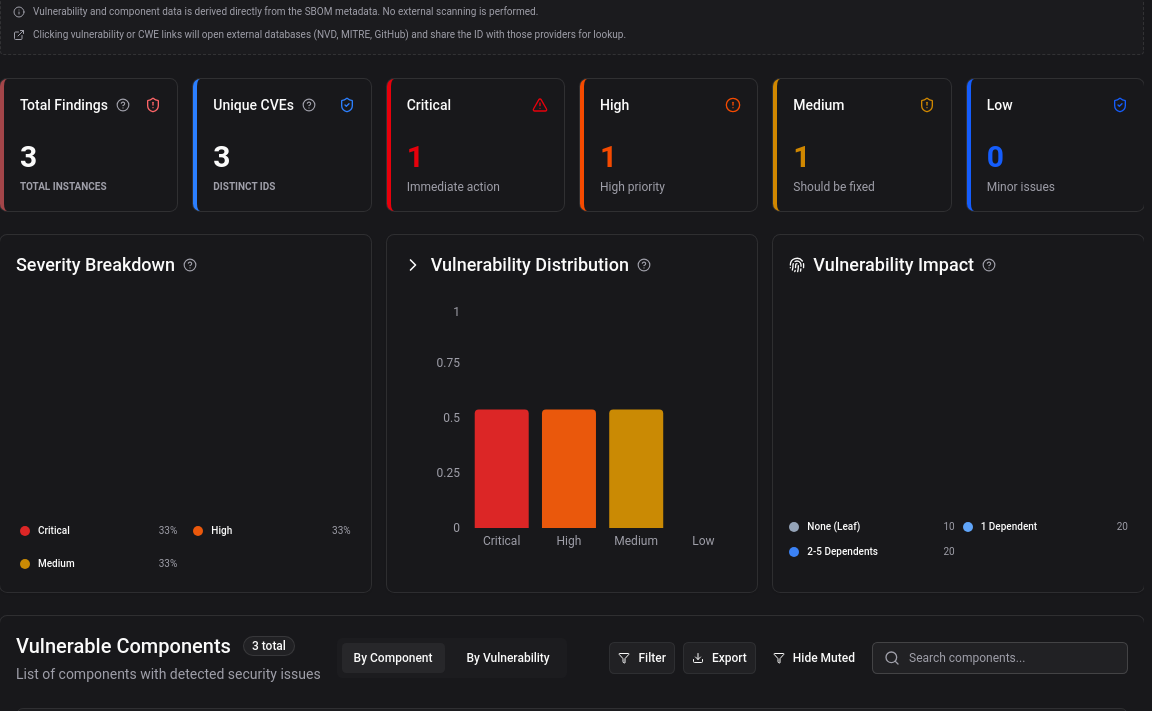
Test case: VulnerabilitiesView › should filter CVEs when searching in vulnerability view
This screenshot has width=1152, height=711.
Click the button "By Vulnerability".
click(508, 658)  # box left=454, top=642, right=563, bottom=674
(page scrolled)
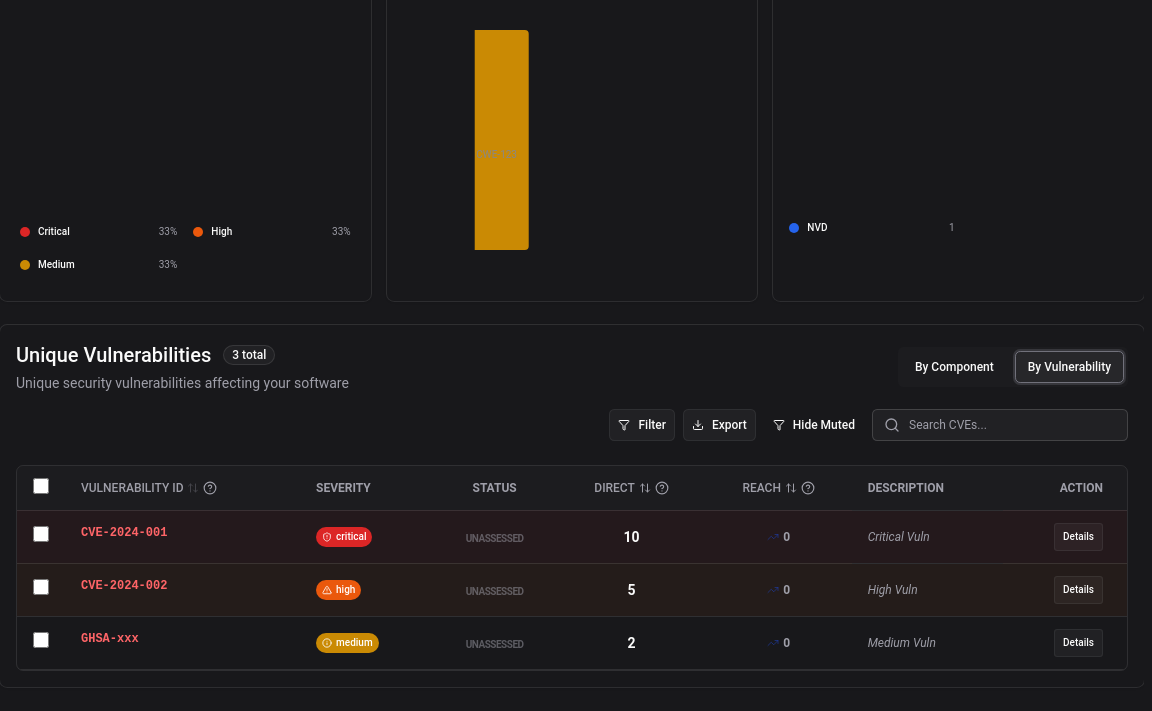
Type "CVE-2024-001" into the field with placeholder "Search CVEs...".
click(1000, 425); type("CVE-2024-001")  # box left=872, top=409, right=1128, bottom=441
(page scrolled)
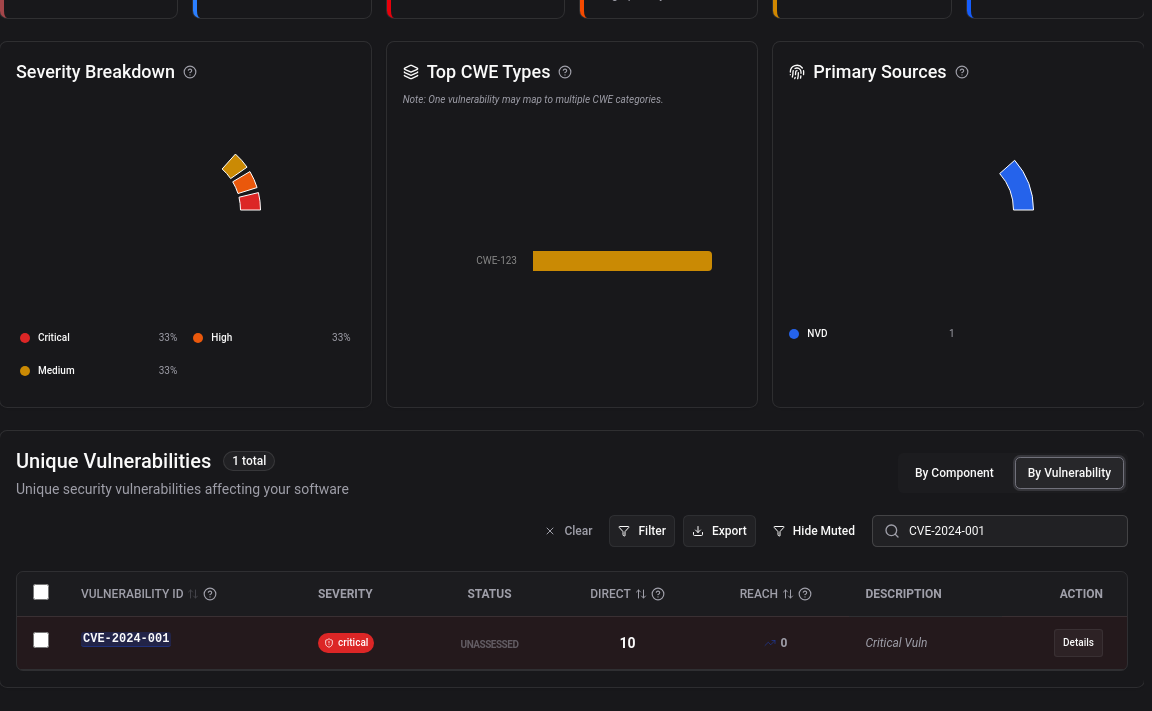
Result: the text "CVE-2024-001" is shown at left=81, top=632, right=171, bottom=647
Result: the link "CVE-2024-002" is gone
